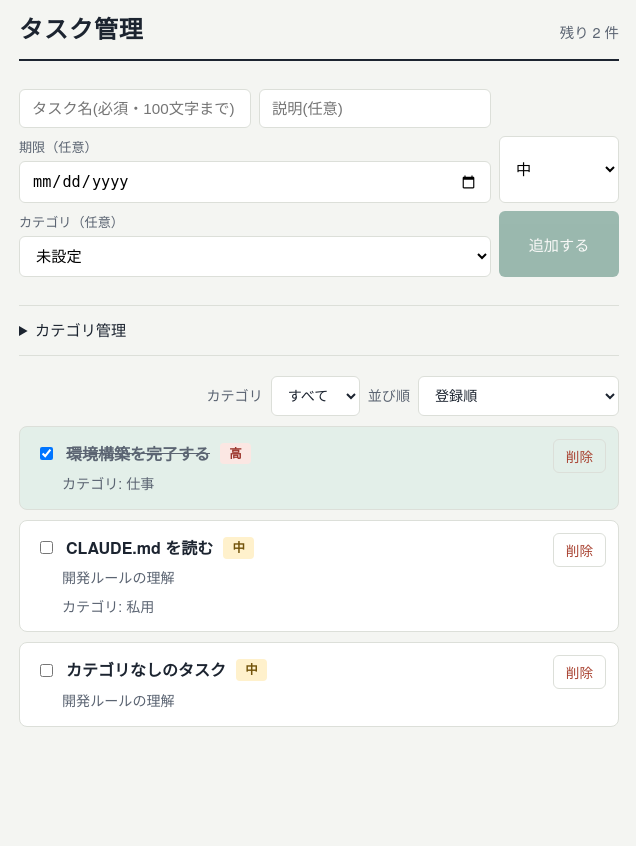
Test: App › 追加したカテゴリがフォームとフィルタの選択肢に反映される
Expected: the text "環境構築を完了する" is shown, left=66, top=441, right=210, bottom=466
Click the heading "カテゴリ管理" at (81, 330), box left=35, top=319, right=126, bottom=340
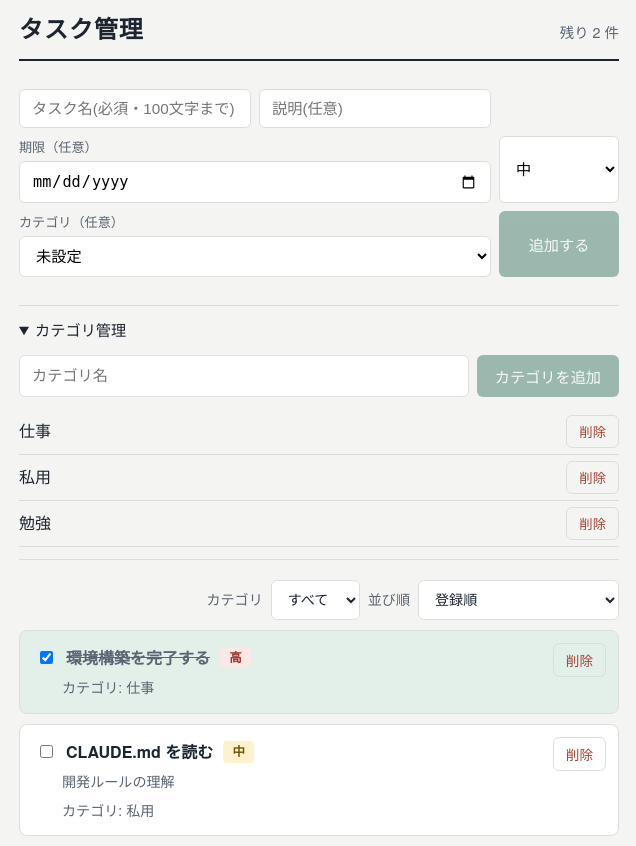
Type "趣味" into the field labelled "カテゴリ名" at (244, 376), box left=19, top=355, right=469, bottom=397
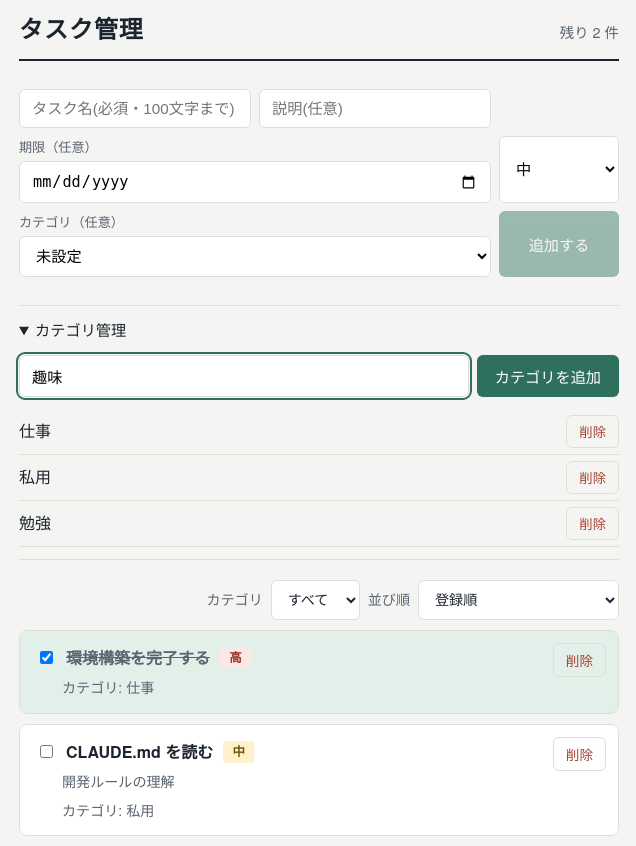
Click the button "カテゴリを追加" at (548, 376), box left=477, top=355, right=619, bottom=397
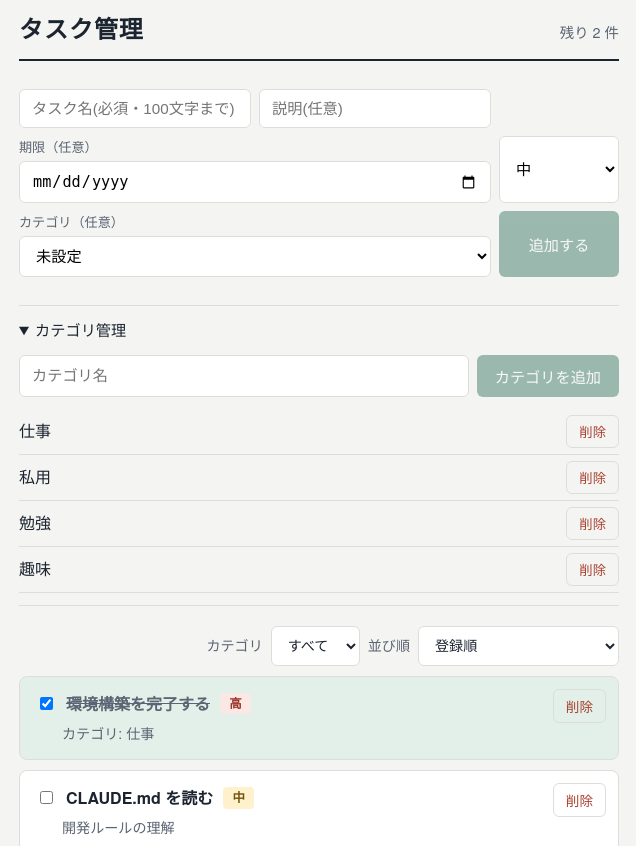
Expected: the button with aria-label "趣味を削除" is shown, left=566, top=553, right=619, bottom=586
Select "趣味" in the dropdown labelled "カテゴリ（任意）" at (255, 257), box left=19, top=236, right=491, bottom=277
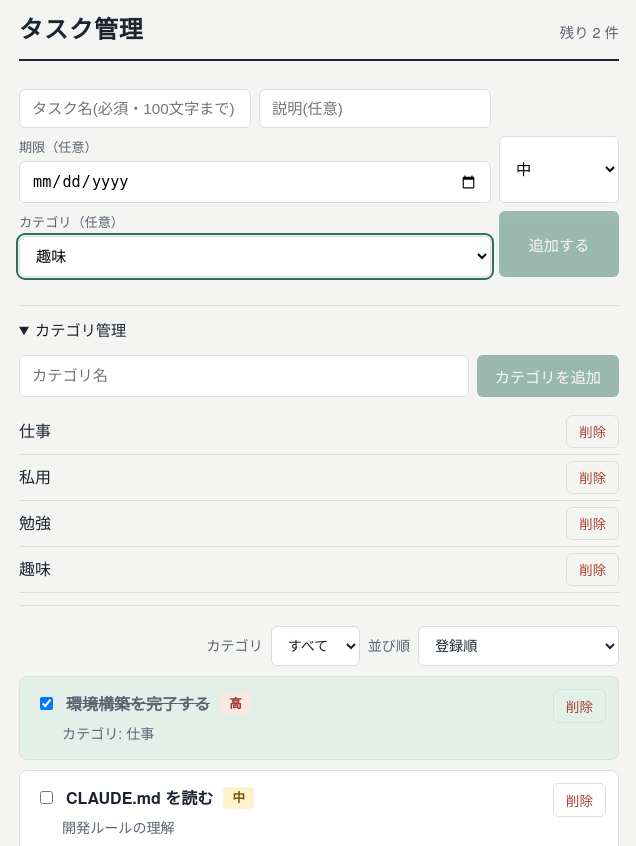
Select "趣味" in the dropdown named "カテゴリで絞り込み" at (315, 646), box left=271, top=626, right=360, bottom=666
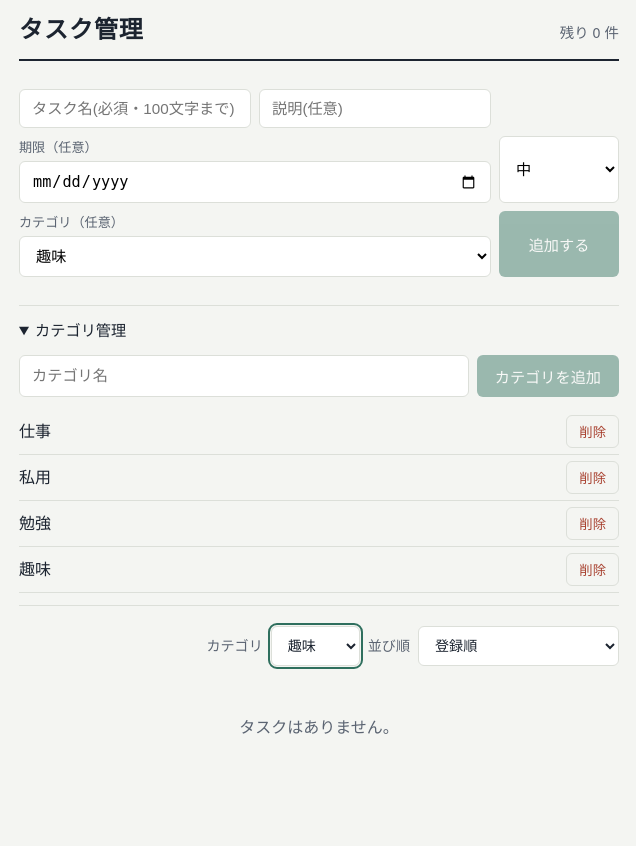
Expected: the field labelled "カテゴリ名" is empty, left=19, top=355, right=469, bottom=397
Expected: the text "タスクはありません。" is shown, left=239, top=715, right=399, bottom=738
